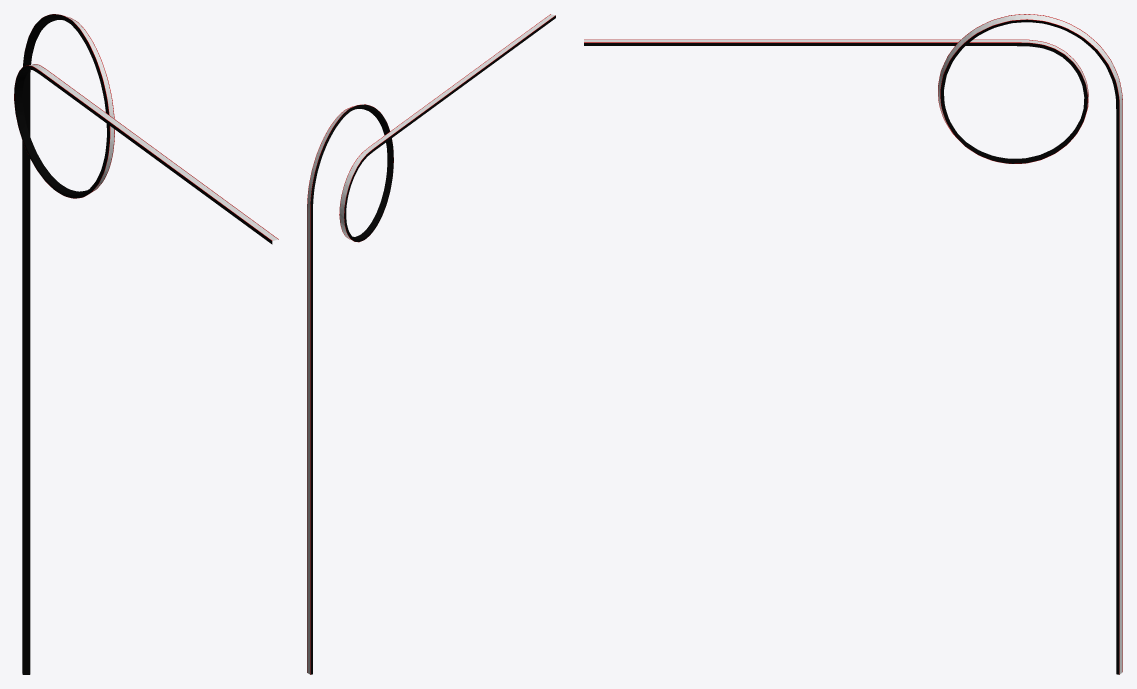
The model's file is road_4.fbx.
3 views of the same model, side by side, from view 1: azimuth 30°, elevation 25°; view 2: azimuth 150°, elevation 25°; view 3: azimuth 270°, elevation 25° (orthographic). The views are drawn at different scales.
Parts seen in each view (by area): view 1: 3.001, 3.003; view 2: 3.001, 3.003; view 3: 3.001, 3.003.
Part boxes in pixels (x1,y1,x2,y2): 3.001: [14, 14, 277, 674]; 3.003: [14, 14, 278, 240]; 3.001: [307, 14, 555, 674]; 3.003: [307, 14, 555, 674]; 3.001: [584, 14, 1122, 674]; 3.003: [584, 14, 1122, 674].
Bounding box in the file's own units: 757 × 12989 × 9640.
